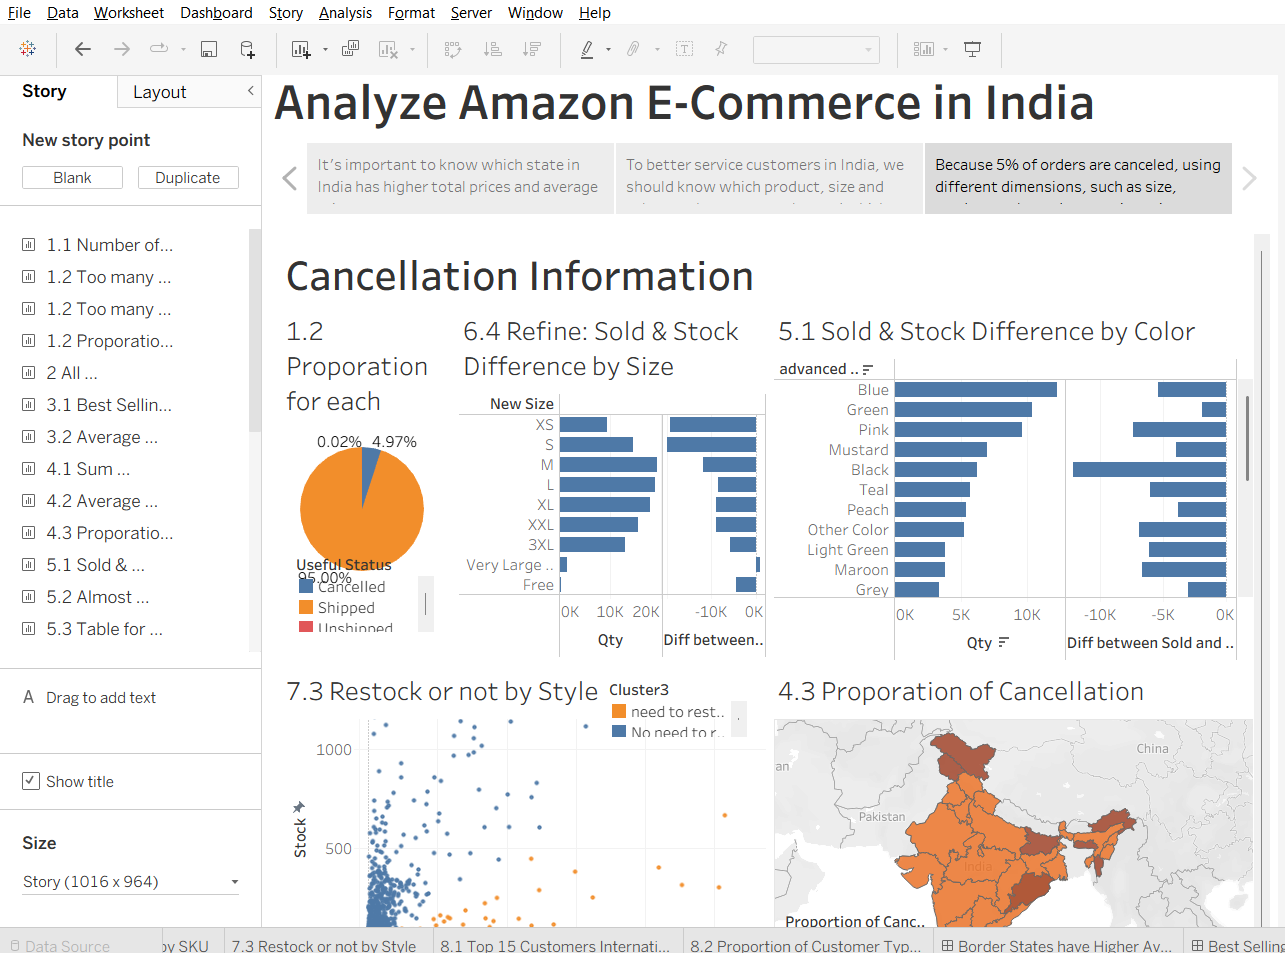

The dashboard page shown, as its layout file describes it:
{"tool":"tableau","page":{"name":"Cancellation Information","canvas":[1000,800],"ordinal":2},"visuals":[{"type":"title","box":[8,8,984,52]},{"type":"worksheet","title":"1.2 Proporation for each Status","mark":"Pie","box":[8,60,177,366]},{"type":"worksheet","title":"6.4 Refine: Sold & Stock Difference by Size","mark":"Automatic","rows":["Calculation_3818489581384867840"],"cols":["Qty","Calculation_5405797340997423117"],"box":[185,60,315,366]},{"type":"worksheet","title":"5.1 Sold & Stock Difference by Color","mark":"Automatic","rows":["Calculation_3318308551091699726"],"cols":["Qty","Calculation_5405797340998869008"],"box":[500,60,492,366]},{"type":"legend","title":"1.2 Proporation for each Status","param":"[federated.06cjvts1bn9f6q1123mem1avxdha].[none:Calculation_4906249622193930247:n","box":[26,320,140,78]},{"type":"worksheet","title":"7.3 Restock or not by Style","mark":"Automatic","rows":["Stock"],"cols":["Calculation_5609937067952132096"],"box":[8,426,492,366]},{"type":"worksheet","title":"4.3 Proporation of Cancellation","mark":"Automatic","box":[500,426,492,366]},{"type":"legend","title":"7.3 Restock or not by Style","param":"[federated.06cjvts1bn9f6q1123mem1avxdha].[none:Calculation_5405797340992786440:n","box":[339,445,140,58]},{"type":"legend","title":"4.3 Proporation of Cancellation","param":"[federated.06cjvts1bn9f6q1123mem1avxdha].[usr:Calculation_3318308551073034251:qk","box":[515,677,140,76]}]}

Visuals, with their boxes on the page's 1000x800 design canvas (x1, y1, x2, y2). These are canvas units, not pixel positions in the 1285x953 screenshot, which may show the page scaled, cropped or inside an application window:
title: rect(8, 8, 992, 60)
"1.2 Proporation for each Status" worksheet (Pie marks): rect(8, 60, 185, 426)
"6.4 Refine: Sold & Stock Difference by Size" worksheet: rect(185, 60, 500, 426)
"5.1 Sold & Stock Difference by Color" worksheet: rect(500, 60, 992, 426)
"1.2 Proporation for each Status" legend: rect(26, 320, 166, 398)
"7.3 Restock or not by Style" worksheet: rect(8, 426, 500, 792)
"4.3 Proporation of Cancellation" worksheet: rect(500, 426, 992, 792)
"7.3 Restock or not by Style" legend: rect(339, 445, 479, 503)
"4.3 Proporation of Cancellation" legend: rect(515, 677, 655, 753)
